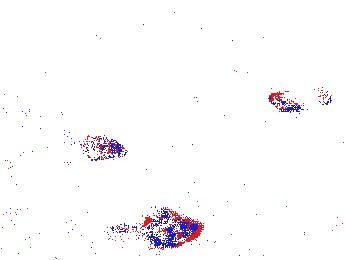X-ray fish: (125, 214, 207, 248), (69, 132, 125, 160)
red belly glassfish: (265, 92, 310, 116), (310, 81, 333, 104)
